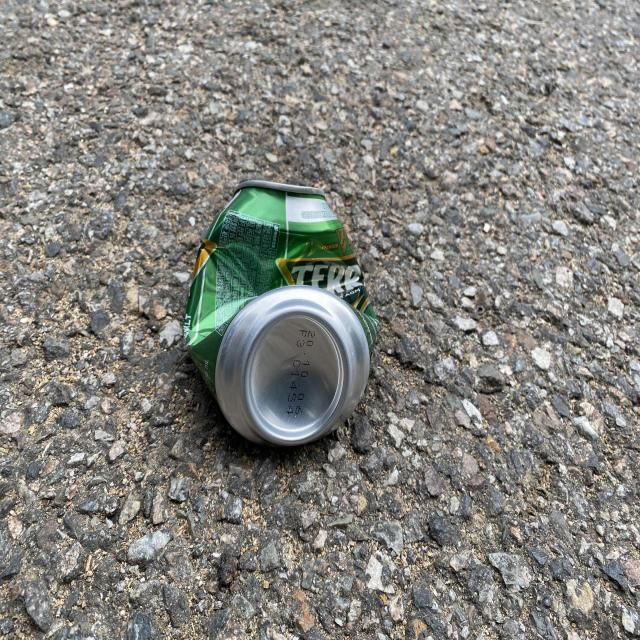can: (183, 180, 379, 446)
